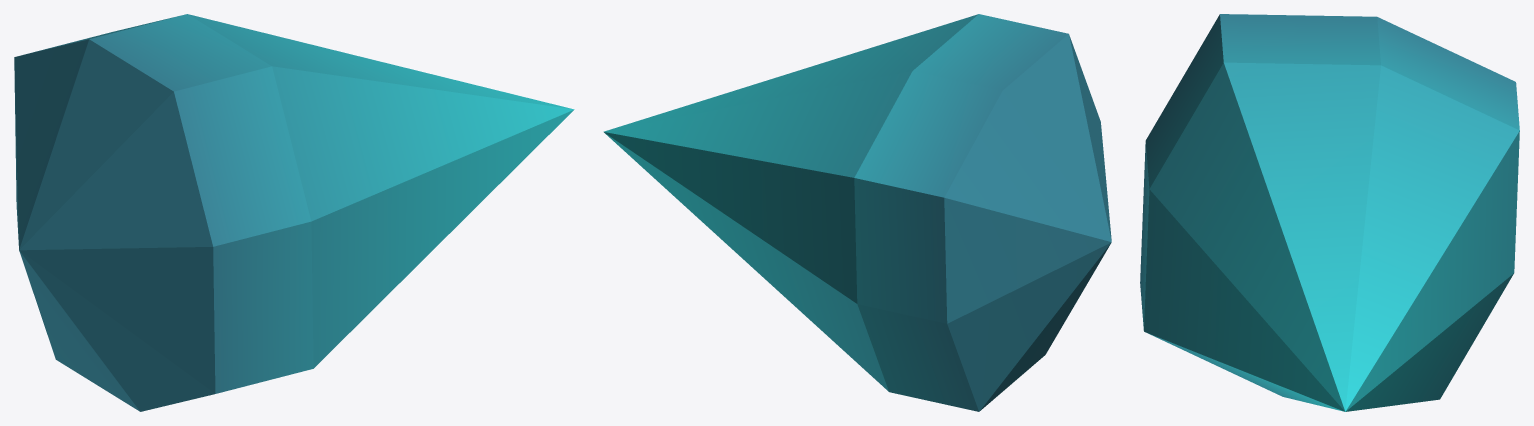
The model's file is lilia_water.glb.
The picture shows the model from 3 angles, left to right: view 1: azimuth 30°, elevation 25°; view 2: azimuth 150°, elevation 25°; view 3: azimuth 270°, elevation 25°; orthographic projection. The views are drawn at different scales.
Parts seen in each view (by area): view 1: projectile_water; view 2: projectile_water; view 3: projectile_water.
Part boxes in pixels (bbox=[...]): projectile_water: bbox=[14, 14, 574, 411]; projectile_water: bbox=[603, 14, 1111, 411]; projectile_water: bbox=[1140, 14, 1519, 411].
Bounding box in the file's own units: 0.1671 × 0.0979 × 0.0987.
